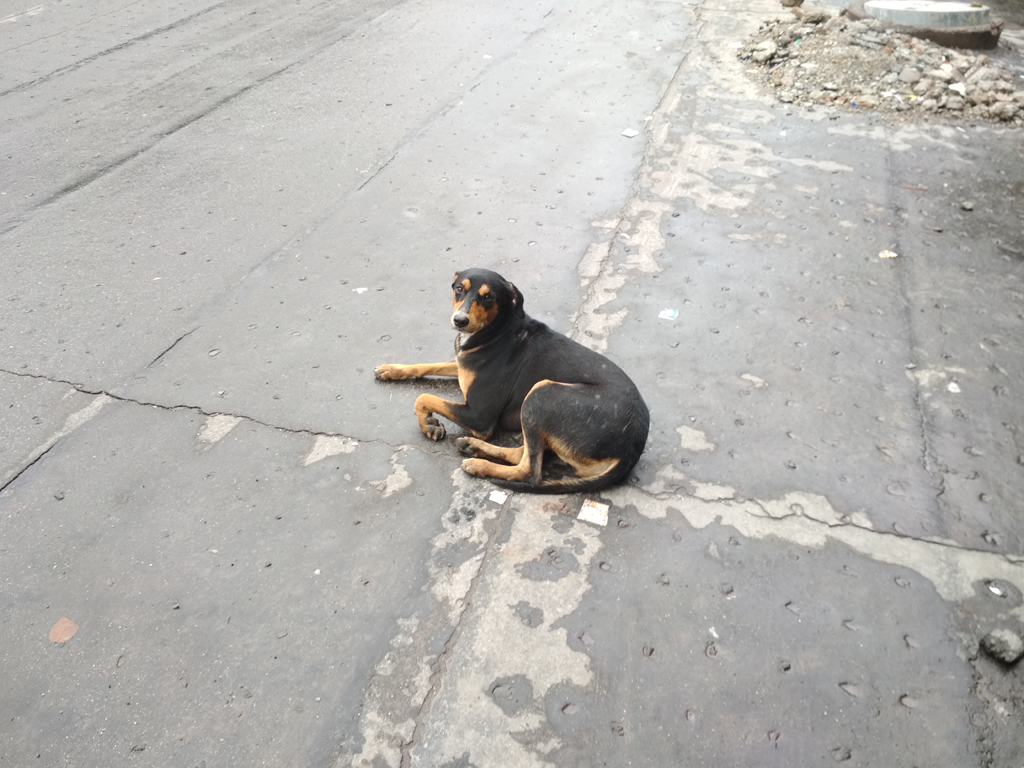dog: (375, 269, 651, 494)
